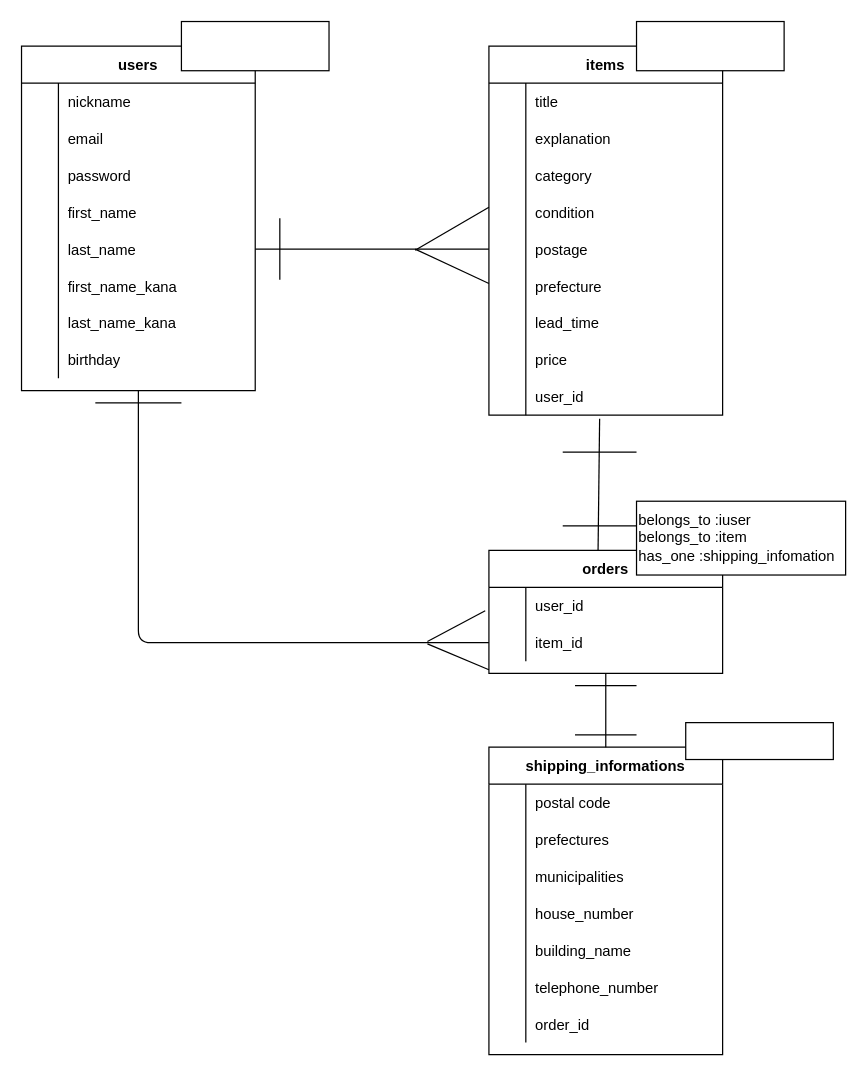
Some shapes in this 867 by 1076 pixel diagram are drawn without their labels. The centre of each missing label's shape, as x and y in pixels:
"belongs_to :iuser has_one :order" goes at point (709, 45).
"belongs_to :order" goes at point (758, 740).
"has_many :items has_many :orders" goes at point (254, 45).
